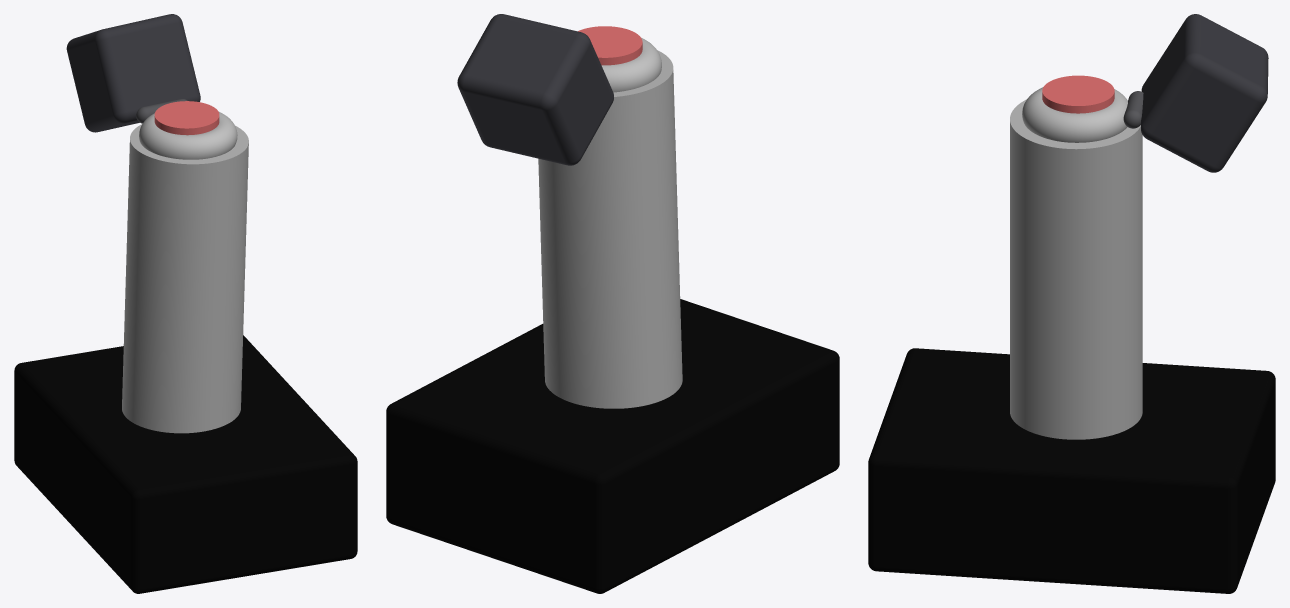
The model's file is a_big_red_button.glb.
The picture shows the model from 3 angles, left to right: view 1: azimuth 30°, elevation 25°; view 2: azimuth 150°, elevation 25°; view 3: azimuth 270°, elevation 25°; orthographic projection. The views are drawn at different scales.
Parts seen in each view (by area): view 1: Object_6, Object_2, Object_4, Object_5, Object_3; view 2: Object_6, Object_2, Object_4, Object_3, Object_5; view 3: Object_6, Object_2, Object_4, Object_5, Object_3, Object_7.
Boxes of the visible parts, box(x1,y1,x2,y2) form: Object_6: box(14, 335, 357, 593); Object_2: box(122, 124, 248, 433); Object_4: box(66, 14, 200, 132); Object_5: box(139, 111, 237, 159); Object_3: box(154, 101, 219, 135); Object_6: box(386, 299, 839, 593); Object_2: box(538, 50, 682, 408); Object_4: box(457, 14, 613, 165); Object_3: box(578, 26, 642, 65); Object_5: box(601, 38, 661, 92); Object_6: box(868, 348, 1275, 593); Object_2: box(1010, 99, 1142, 439); Object_4: box(1141, 14, 1268, 172); Object_5: box(1022, 87, 1127, 142); Object_3: box(1042, 75, 1114, 113); Object_7: box(1123, 91, 1143, 128).
Bounding box in the file's own units: 401 × 690 × 509.
Materials: 6 (1 with a texture image).
